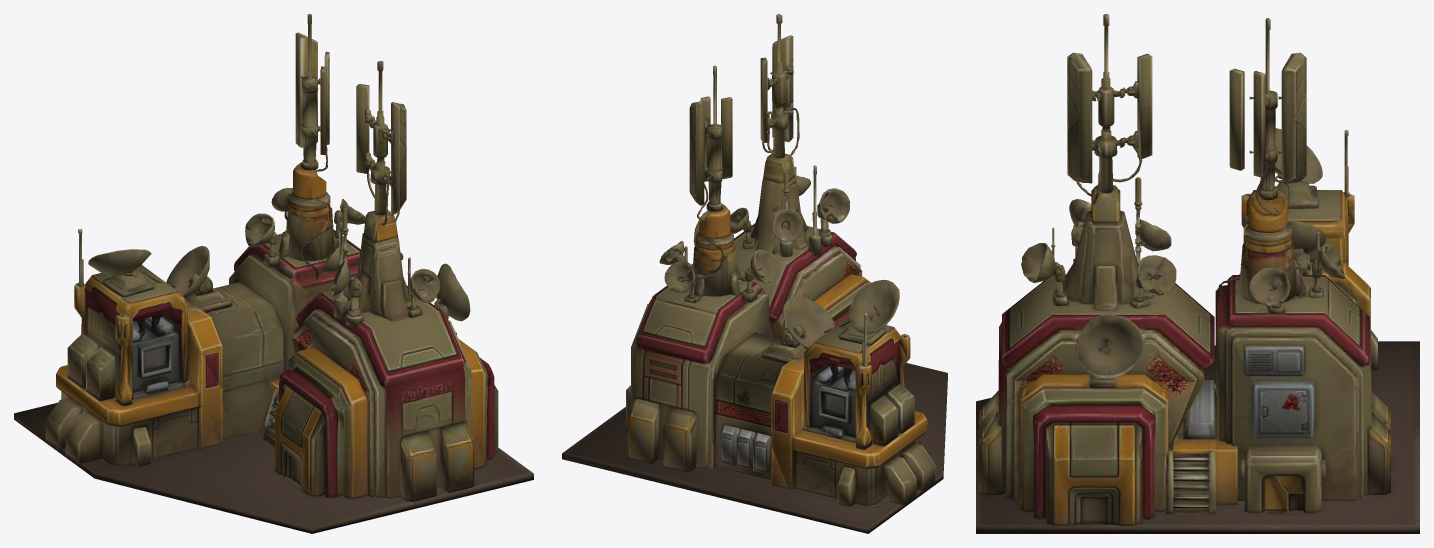
Rendered from tech_center.glb.
3 views of the same model, side by side, from view 1: azimuth 30°, elevation 25°; view 2: azimuth 150°, elevation 25°; view 3: azimuth 270°, elevation 25° (orthographic). The views are drawn at different scales.
Visible parts, largest first — view 1: Body, Trim; view 2: Body, Trim; view 3: Body, Trim.
Part boxes in pixels (left/top/right/bottom): Body: left=14, top=14, right=533, bottom=533; Trim: left=56, top=162, right=483, bottom=498; Body: left=562, top=14, right=947, bottom=533; Trim: left=695, top=155, right=927, bottom=489; Body: left=976, top=14, right=1419, bottom=533; Trim: left=979, top=186, right=1370, bottom=526.
Size of the model in its own units: 8.71 by 10.05 by 8.71.
2 materials, 2 textured.
